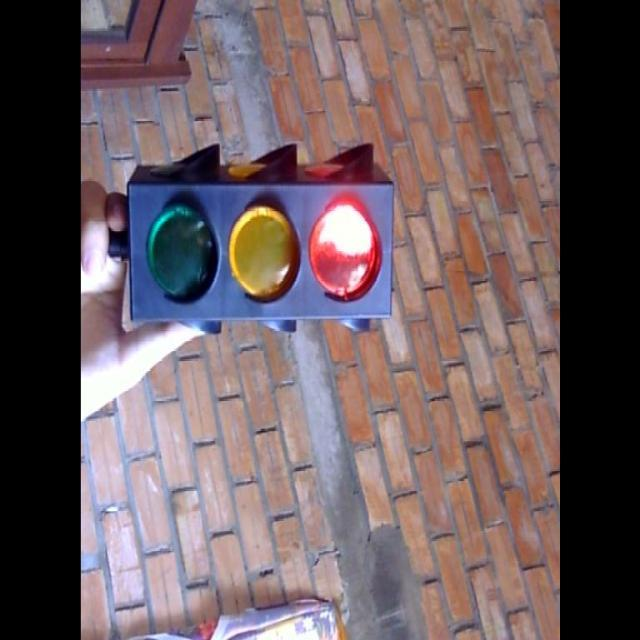red light: (301, 187, 391, 314)
